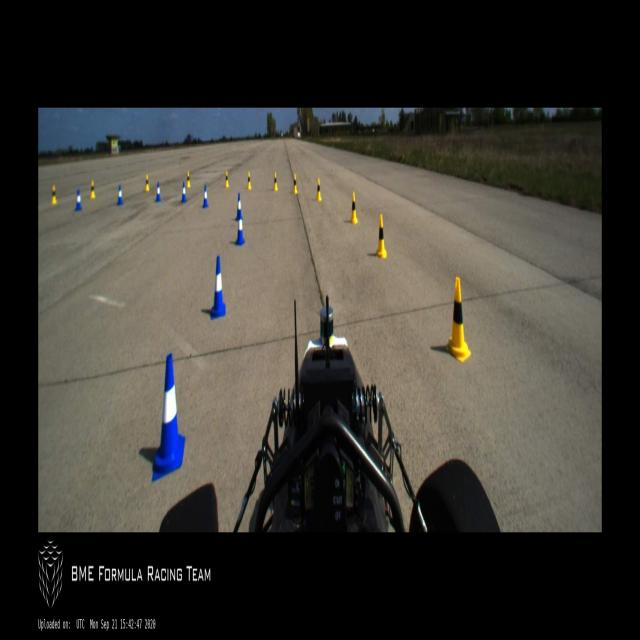blue_cone: (152, 354, 185, 480), (211, 255, 226, 317), (235, 212, 245, 245), (236, 194, 242, 220), (75, 189, 82, 211), (117, 185, 123, 206), (181, 182, 187, 203), (203, 186, 208, 208), (156, 182, 161, 202)
yellow_cone: (446, 276, 470, 362), (376, 216, 386, 258), (350, 191, 357, 224), (316, 178, 322, 202), (90, 180, 95, 198), (293, 174, 297, 195), (274, 172, 278, 191), (52, 185, 56, 204), (224, 171, 229, 186), (247, 171, 251, 189), (145, 174, 149, 191), (187, 171, 190, 187)
